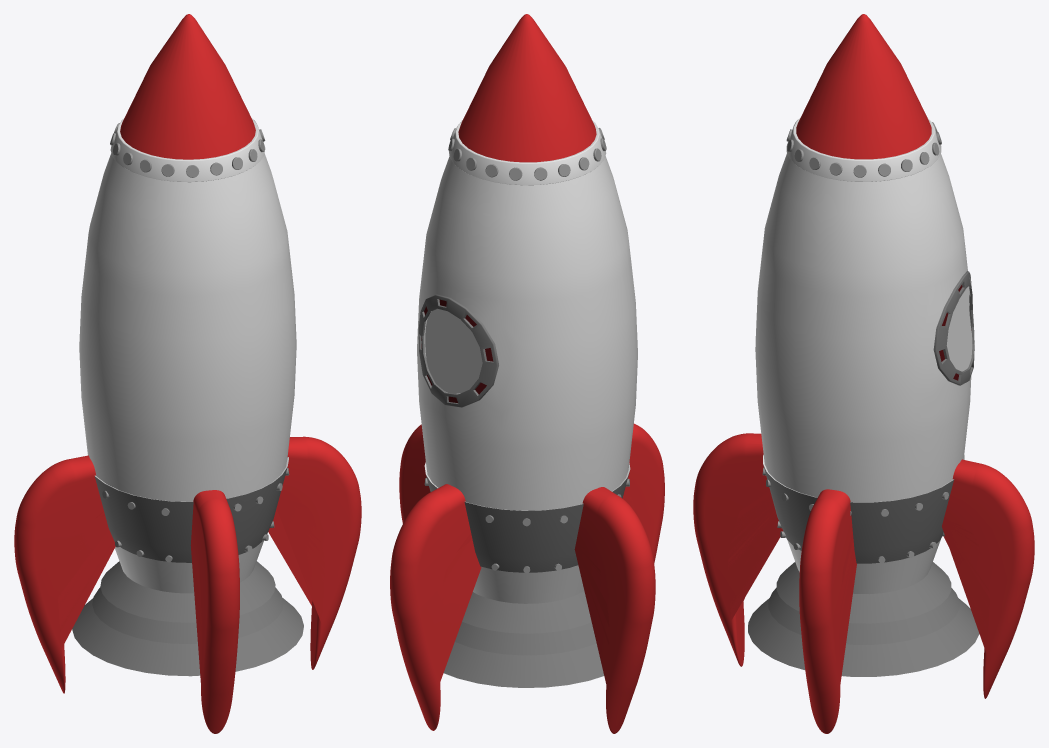
The model's file is day 2 rocket.fbx.
3 views of the same model, side by side, from view 1: azimuth 30°, elevation 25°; view 2: azimuth 150°, elevation 25°; view 3: azimuth 270°, elevation 25° (orthographic).
Visible parts, largest first — view 1: Circle.002, Cube.002, Circle, Cylinder; view 2: Circle.002, Cube.002, Circle.001, Circle, Cylinder; view 3: Circle.002, Cube.002, Circle, Circle.001, Cylinder.
Boxes of the visible parts, x1,y1,x2,y2 form: Circle.002: [72, 14, 303, 676]; Cube.002: [14, 436, 361, 733]; Circle: [110, 118, 265, 182]; Cylinder: [110, 120, 265, 177]; Circle.002: [417, 14, 637, 687]; Cube.002: [390, 423, 664, 733]; Circle.001: [425, 309, 482, 393]; Circle: [449, 120, 606, 185]; Cylinder: [448, 128, 606, 180]; Circle.002: [748, 14, 979, 676]; Cube.002: [693, 433, 1034, 733]; Circle: [786, 118, 941, 181]; Circle.001: [946, 286, 972, 371]; Cylinder: [786, 119, 941, 177].
Size of the model in its own units: 109 by 234 by 109.
